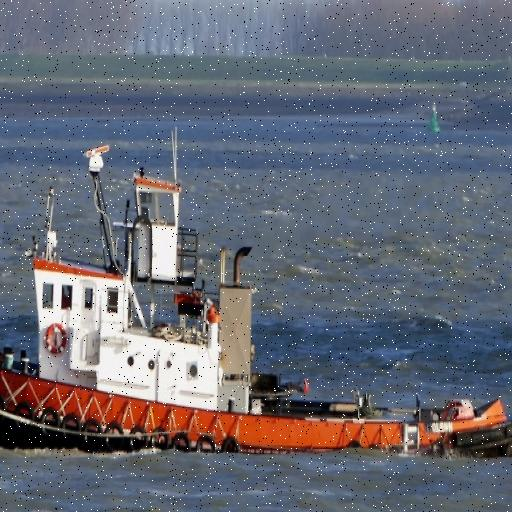tugboat: (1, 139, 512, 467)
